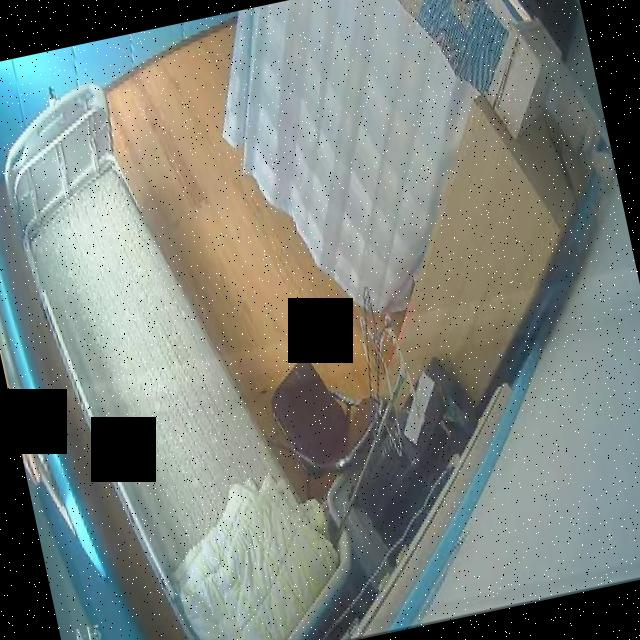bed: (0, 48, 349, 640)
